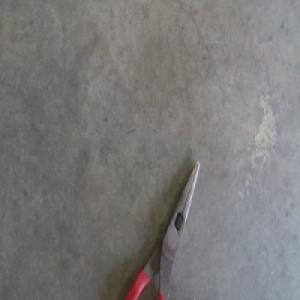Pliers: (125, 160, 200, 298)
